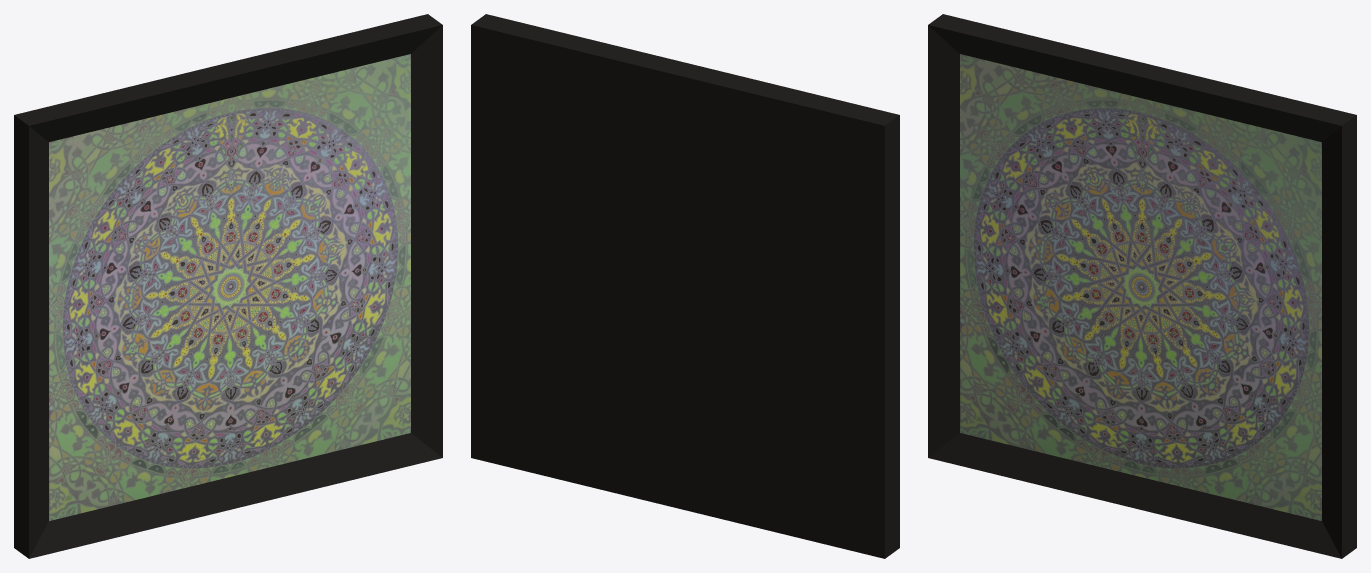
File: tridecagon-moon-star-tridecagon-sage-green-a2-stained-black-v2.glb
The picture shows the model from 3 angles, left to right: view 1: azimuth 30°, elevation 25°; view 2: azimuth 150°, elevation 25°; view 3: azimuth 330°, elevation 25°; orthographic projection.
Visible parts, largest first — view 1: FramedPrint; view 2: FramedPrint; view 3: FramedPrint.
Part boxes in pixels (x1=…): FramedPrint: x1=14, y1=14, x2=442, y2=558; FramedPrint: x1=471, y1=14, x2=899, y2=558; FramedPrint: x1=928, y1=14, x2=1356, y2=558.
Size of the model in its own units: 0.48 by 0.48 by 0.03.
2 materials, 1 textured.
